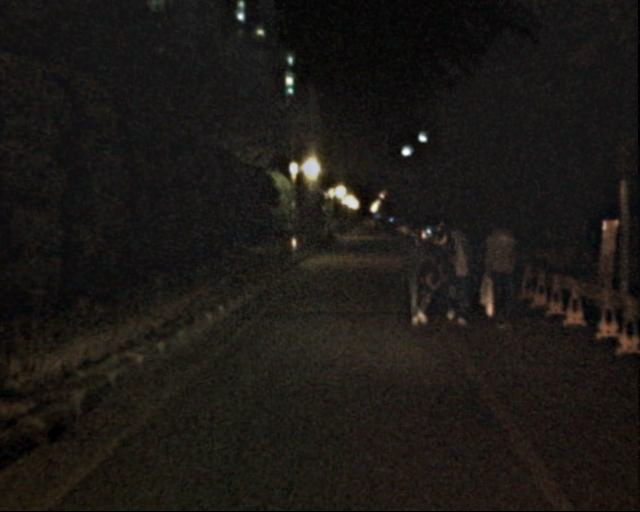person: (477, 221, 522, 331), (434, 225, 476, 327), (394, 228, 435, 328)
